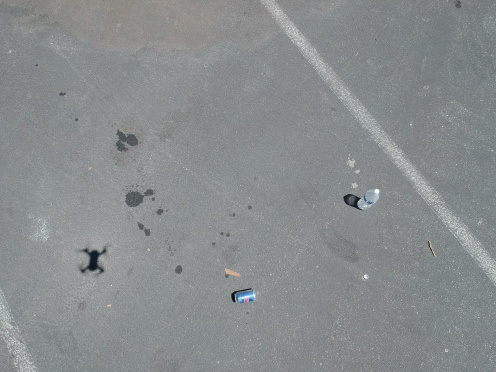bottle: (353, 182, 384, 216)
can: (226, 284, 260, 304)
